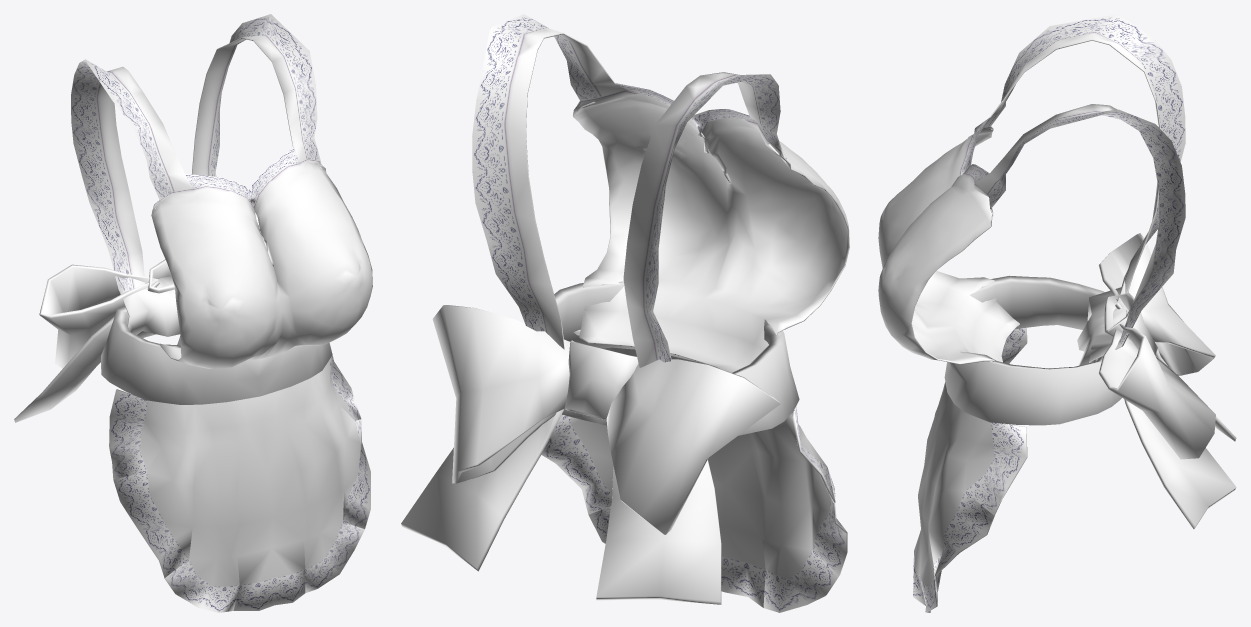
The model's file is Appron-Long.fbx.
3 views of the same model, side by side, from view 1: azimuth 30°, elevation 25°; view 2: azimuth 150°, elevation 25°; view 3: azimuth 270°, elevation 25° (orthographic). The views are drawn at different scales.
Parts seen in each view (by area): view 1: カスタム少女_mesh; view 2: カスタム少女_mesh; view 3: カスタム少女_mesh.
Boxes of the visible parts, box(x1,y1,x2,y2) form: カスタム少女_mesh: box(14, 14, 372, 612); カスタム少女_mesh: box(401, 14, 849, 612); カスタム少女_mesh: box(878, 14, 1236, 612).
Size of the model in its own units: 34.7 by 59.45 by 36.65.
2 materials, 1 textured.
